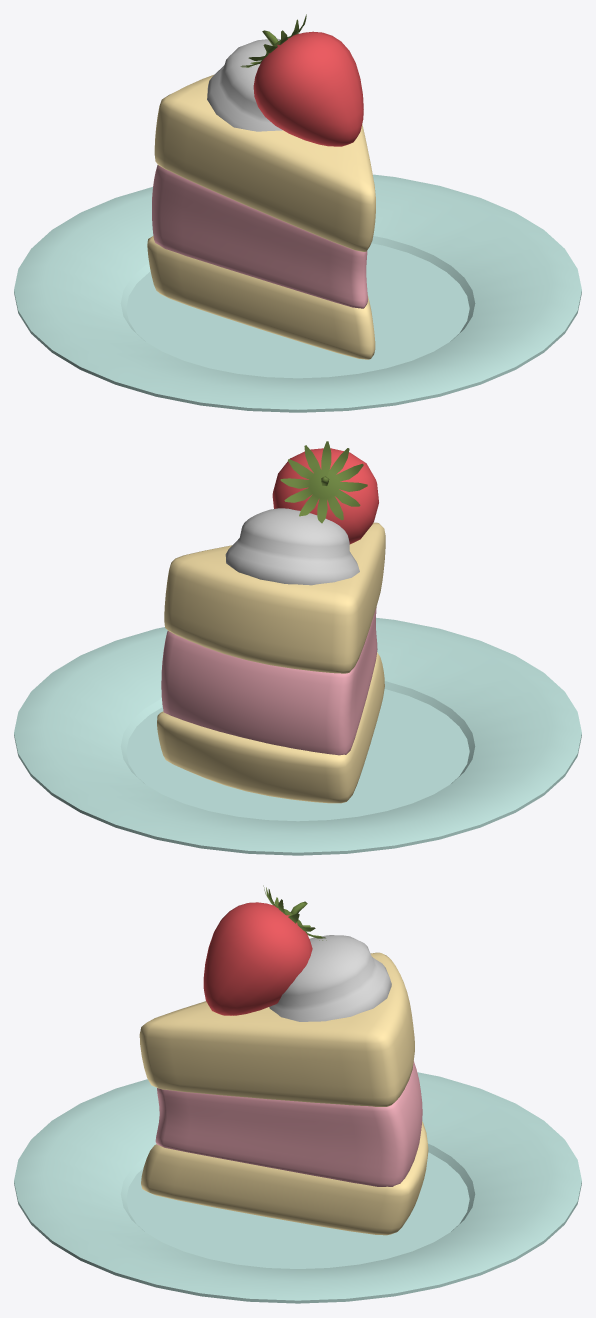
The model's file is SSC_gltf.gltf.
3 views of the same model, one above another, from view 1: azimuth 30°, elevation 25°; view 2: azimuth 150°, elevation 25°; view 3: azimuth 270°, elevation 25° (orthographic).
Parts seen in each view (by area): view 1: Cylinder.001, Cube.008; view 2: Cylinder.001, Cube.008; view 3: Cube.008, Cylinder.001.
Part boxes in pixels (x1,y1,x2,y2): Cylinder.001: (14,174,581,412); Cube.008: (147,14,375,359); Cylinder.001: (14,617,581,855); Cube.008: (157,441,385,803); Cube.008: (139,885,428,1235); Cylinder.001: (14,1072,581,1303).
Bounding box in the file's own units: 1.73 × 1.06 × 1.73.
